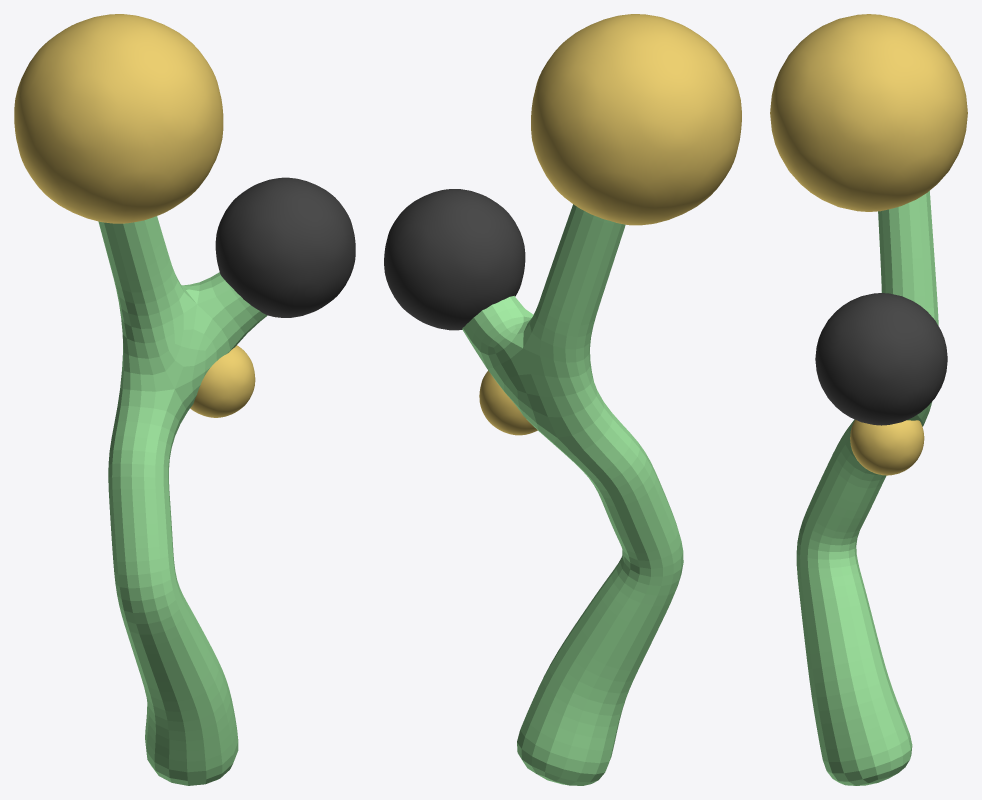
Rendered from BeePlant#2.fbx.
The picture shows the model from 3 angles, left to right: view 1: azimuth 30°, elevation 25°; view 2: azimuth 150°, elevation 25°; view 3: azimuth 270°, elevation 25°; orthographic projection. The views are drawn at different scales.
Parts seen in each view (by area): view 1: Vert, Icosphere.002, Icosphere.005, Icosphere.004; view 2: Vert, Icosphere.002, Icosphere.005, Icosphere.004; view 3: Icosphere.002, Vert, Icosphere.005, Icosphere.004.
Boxes of the visible parts, <box> form: Vert: <box>98,216,267,785</box>; Icosphere.002: <box>14,14,223,223</box>; Icosphere.005: <box>215,177,355,317</box>; Icosphere.004: <box>190,345,255,417</box>; Vert: <box>462,204,683,785</box>; Icosphere.002: <box>531,14,741,225</box>; Icosphere.005: <box>384,189,525,330</box>; Icosphere.004: <box>479,370,537,435</box>; Icosphere.002: <box>770,14,967,211</box>; Vert: <box>796,191,938,785</box>; Icosphere.005: <box>815,293,947,425</box>; Icosphere.004: <box>850,420,924,475</box>.
Size of the model in its own units: 226 by 511 by 126.
